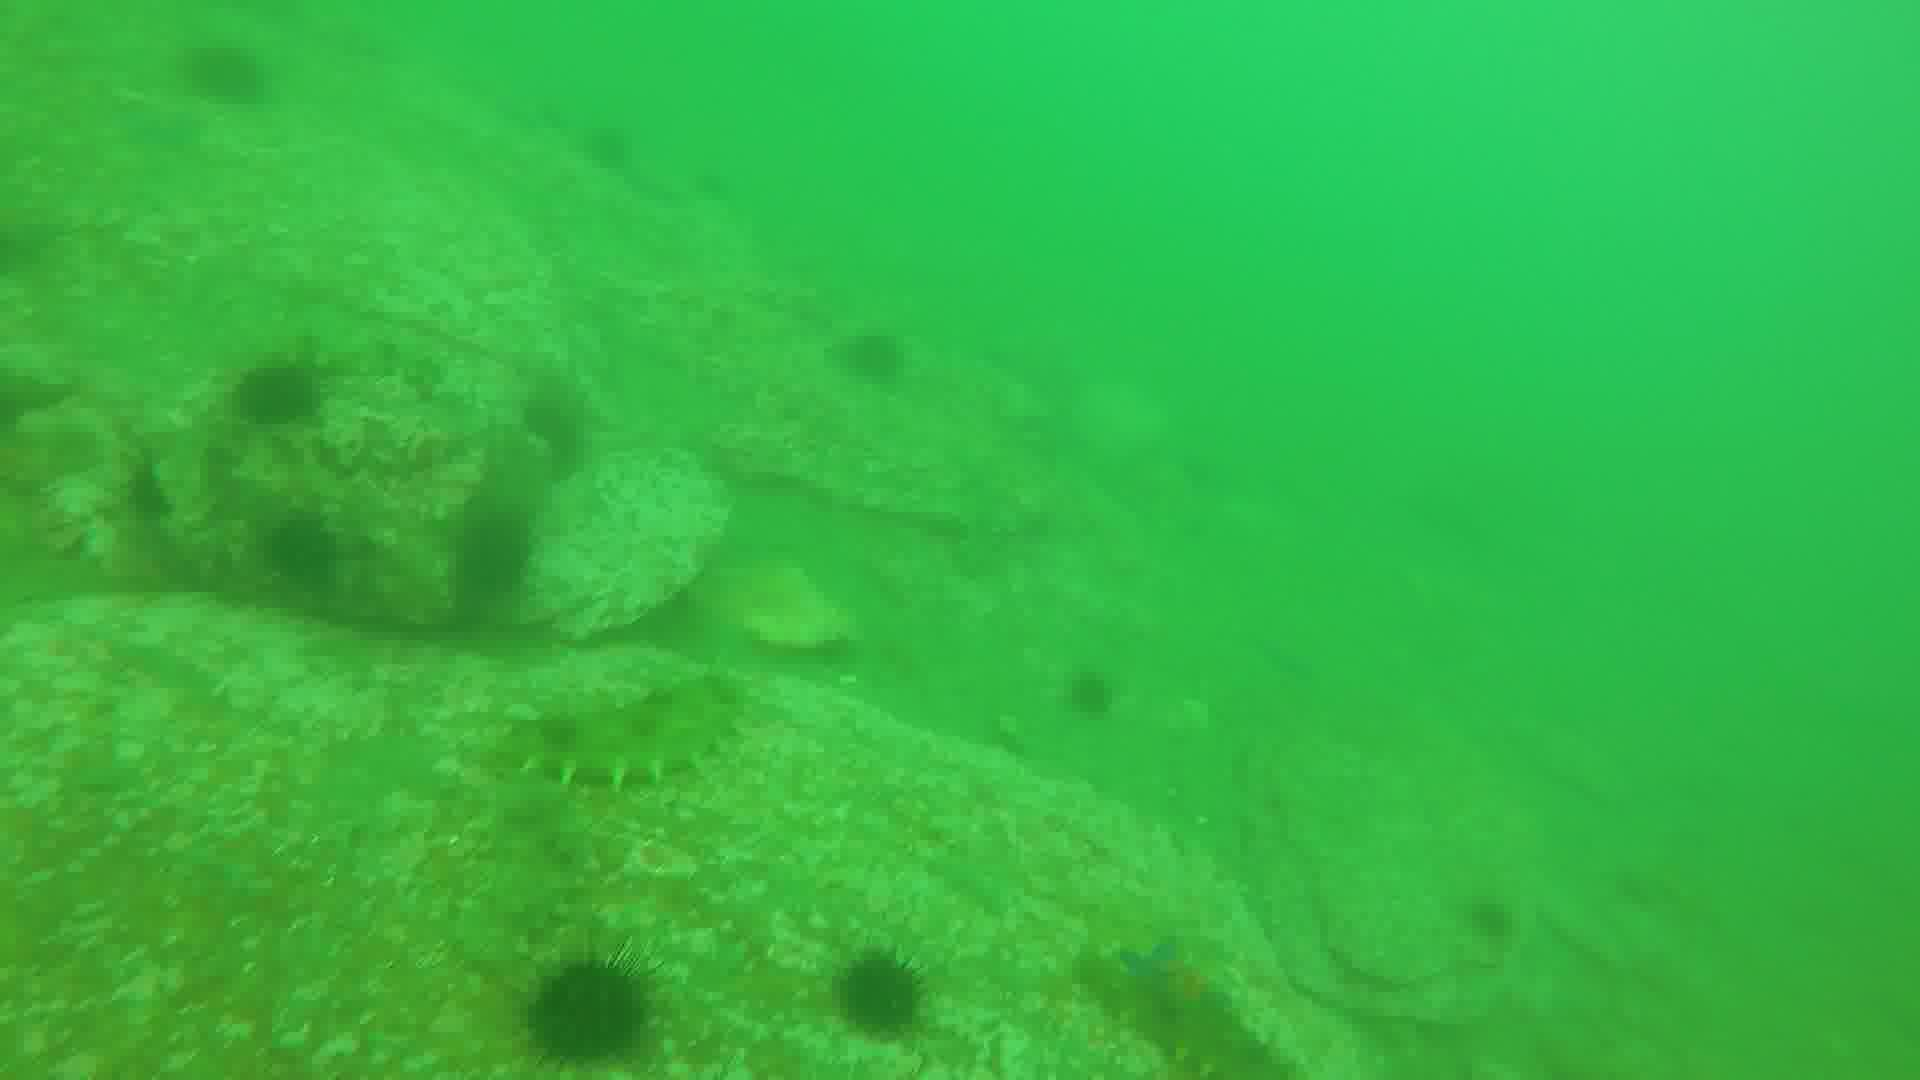echinus: (524, 948, 653, 1075), (841, 948, 923, 1040), (255, 512, 345, 588), (456, 512, 533, 589), (244, 367, 331, 423), (195, 49, 272, 108), (836, 330, 915, 385), (1065, 665, 1120, 723)
holothurian: (502, 680, 753, 794), (1131, 990, 1309, 1079)
starfish: (1116, 943, 1233, 1019)
